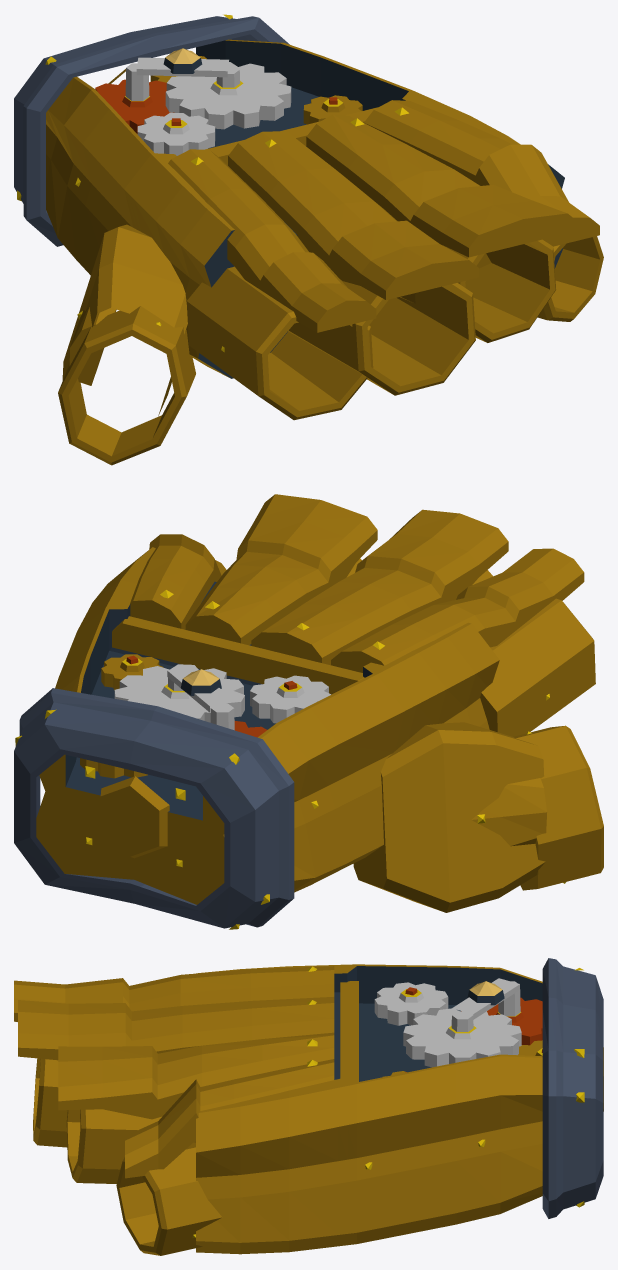
The model's file is riveted-grip-pad-1c0abc.glb.
3 renders of one model, top to bottom at view 1: azimuth 30°, elevation 25°; view 2: azimuth 150°, elevation 25°; view 3: azimuth 270°, elevation 25°, orthographic. The views are drawn at different scales.
Visible parts, largest first — view 1: middle-finger-metacarpal, index-finger-metacarpal, ring-finger-metacarpal, thumb-metacarpal, pinky-finger-metacarpal, wrist; view 2: middle-finger-metacarpal, thumb-metacarpal, wrist, index-finger-metacarpal, ring-finger-metacarpal, pinky-finger-metacarpal; view 3: middle-finger-metacarpal, ring-finger-metacarpal, wrist, pinky-finger-metacarpal, index-finger-metacarpal.
Boxes of the visible parts, left/top/right/bottom form: middle-finger-metacarpal: left=46, top=39, right=564, bottom=395; index-finger-metacarpal: left=168, top=149, right=376, bottom=420; ring-finger-metacarpal: left=306, top=114, right=577, bottom=342; thumb-metacarpal: left=58, top=224, right=195, bottom=465; pinky-finger-metacarpal: left=364, top=100, right=603, bottom=321; wrist: left=14, top=14, right=289, bottom=246; middle-finger-metacarpal: left=36, top=509, right=508, bottom=904; thumb-metacarpal: left=353, top=722, right=603, bottom=912; wrist: left=14, top=688, right=294, bottom=929; index-finger-metacarpal: left=331, top=548, right=595, bottom=736; ring-finger-metacarpal: left=185, top=494, right=377, bottom=645; pinky-finger-metacarpal: left=130, top=534, right=226, bottom=629; middle-finger-metacarpal: left=18, top=964, right=603, bottom=1254; ring-finger-metacarpal: left=58, top=1032, right=334, bottom=1183; wrist: left=542, top=958, right=603, bottom=1218; pinky-finger-metacarpal: left=116, top=1059, right=334, bottom=1255; index-finger-metacarpal: left=14, top=966, right=334, bottom=1021.
Bounding box in the file's own units: 0.1114 × 0.0548 × 0.1202.
